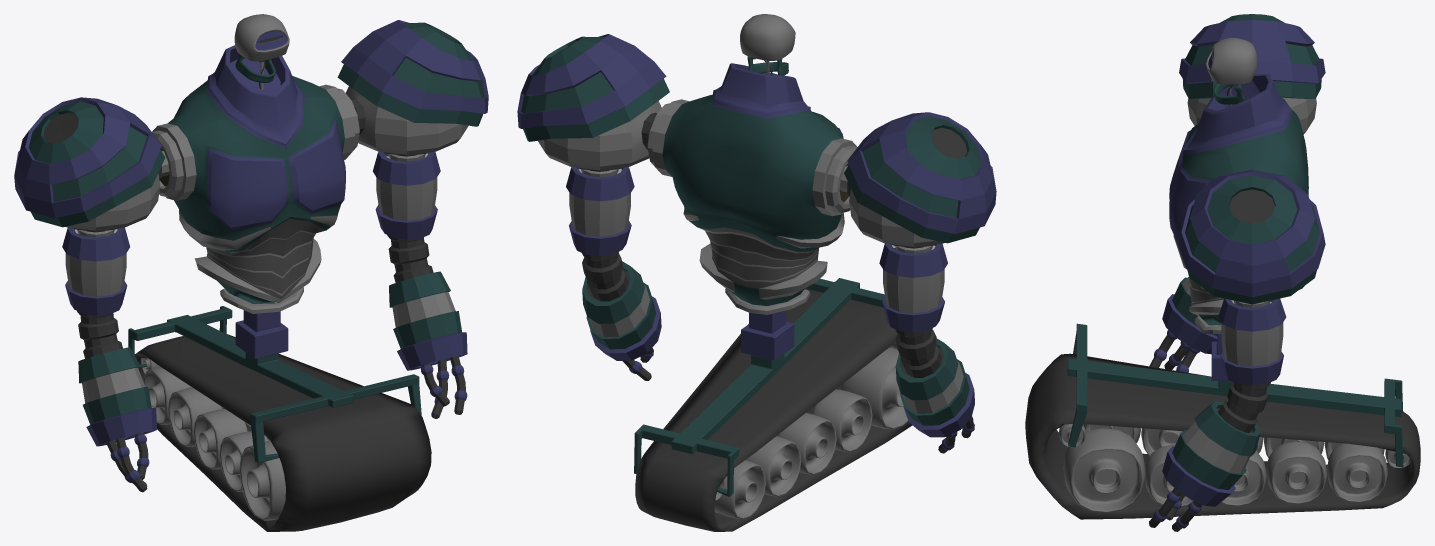
The model's file is npcRobo10.fbx.
The picture shows the model from 3 angles, left to right: view 1: azimuth 30°, elevation 25°; view 2: azimuth 150°, elevation 25°; view 3: azimuth 270°, elevation 25°; orthographic projection.
Visible parts, largest first — view 1: npcRobo10; view 2: npcRobo10; view 3: npcRobo10.
Boxes of the visible parts, x1,y1,x2,y2 form: npcRobo10: (14,14,488,531); npcRobo10: (517,14,996,531); npcRobo10: (1025,14,1420,531).
Size of the model in its own units: 228 by 215 by 171.
